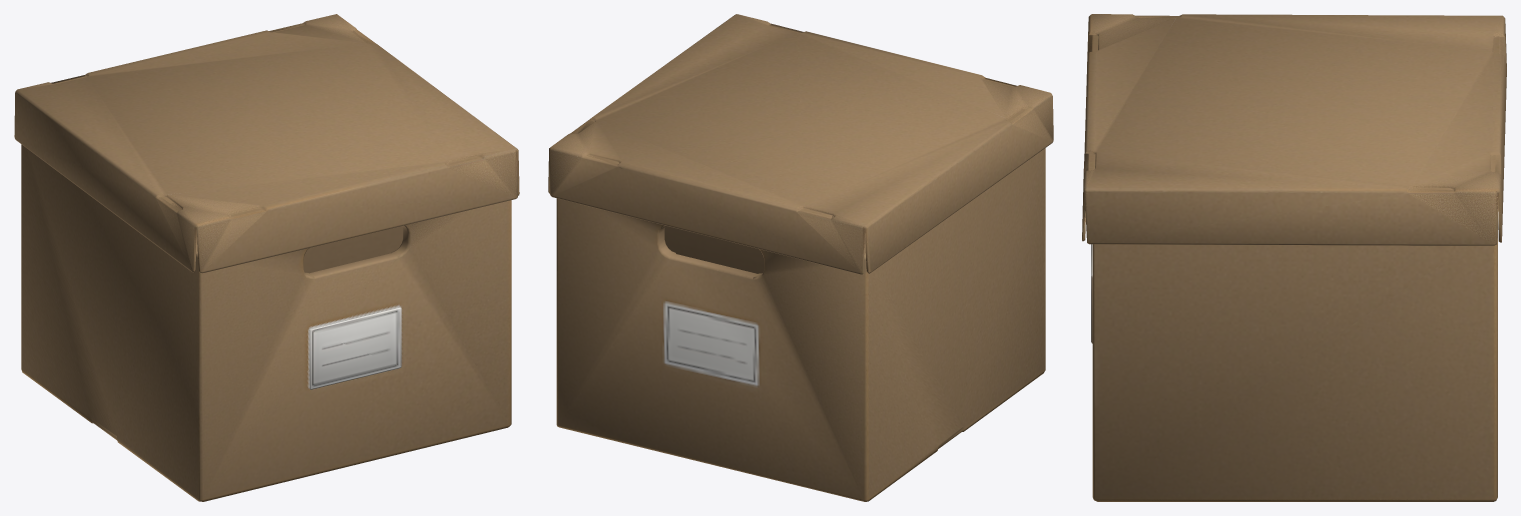
Rendered from ENV_Box_B_v001.fbx.
3 renders of one model, left to right at view 1: azimuth 30°, elevation 25°; view 2: azimuth 150°, elevation 25°; view 3: azimuth 270°, elevation 25°, orthographic. The views are drawn at different scales.
Parts seen in each view (by area): view 1: tripo_node_26078225-9b3d-4688-9684-b08a0aef467e; view 2: tripo_node_26078225-9b3d-4688-9684-b08a0aef467e; view 3: tripo_node_26078225-9b3d-4688-9684-b08a0aef467e.
Boxes of the visible parts, <box> form: tripo_node_26078225-9b3d-4688-9684-b08a0aef467e: <box>14,14,519,501</box>; tripo_node_26078225-9b3d-4688-9684-b08a0aef467e: <box>548,14,1053,501</box>; tripo_node_26078225-9b3d-4688-9684-b08a0aef467e: <box>1082,14,1506,501</box>.
Size of the model in its own units: 99.8 by 81.84 by 99.8.
1 material, 1 textured.
